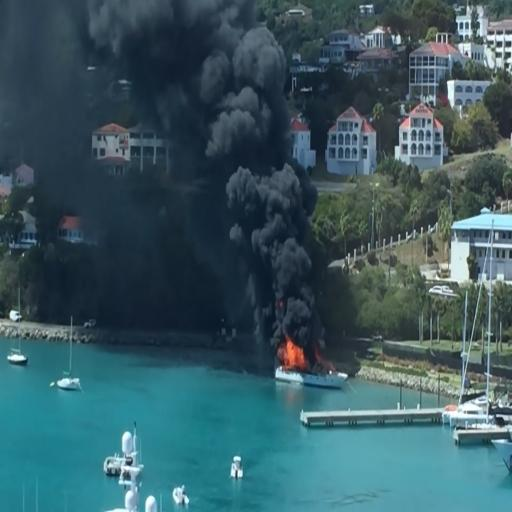fire: (281, 339, 306, 370)
smoke: (180, 38, 289, 187), (222, 172, 312, 291)
